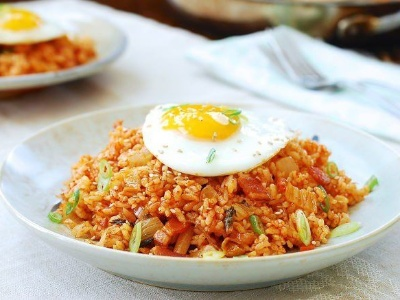nasigoreng: (74, 103, 347, 253)
